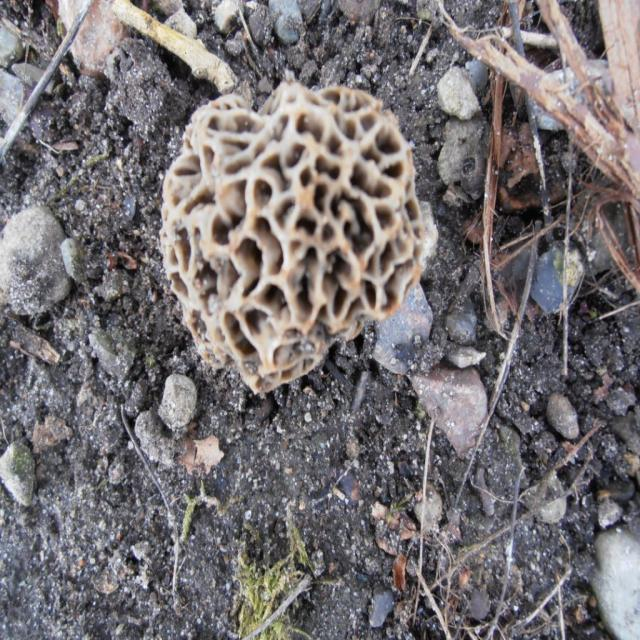Morchella esculenta: (160, 82, 423, 389)
